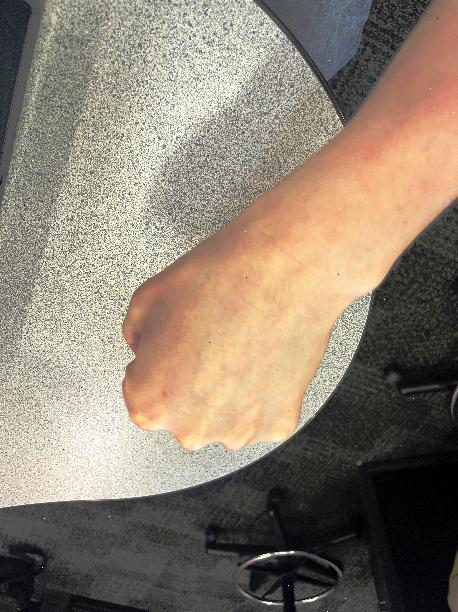Rock: (99, 190, 338, 481)
